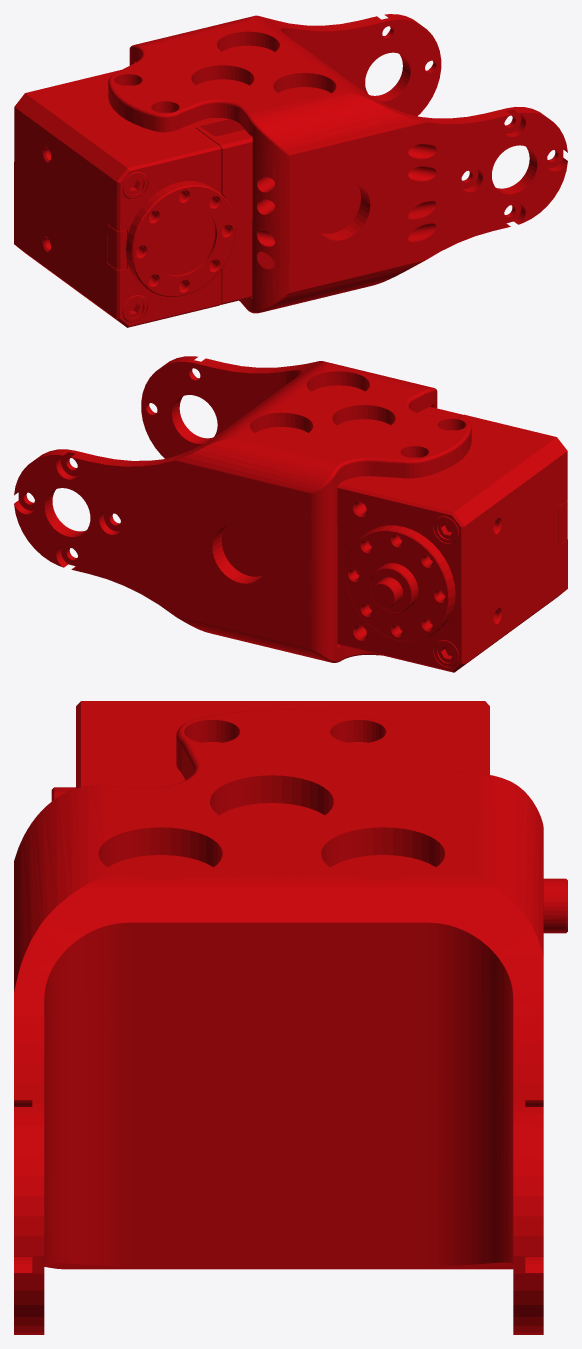
The picture shows the model from 3 angles, top to bottom: view 1: azimuth 30°, elevation 25°; view 2: azimuth 150°, elevation 25°; view 3: azimuth 270°, elevation 25°; orthographic projection. The views are drawn at different scales.
Visible parts, largest first — view 1: link2; view 2: link2; view 3: link2.
Boxes of the visible parts, box(x1,y1,x2,y2) form: link2: box(14, 14, 567, 327); link2: box(14, 356, 567, 672); link2: box(14, 701, 567, 1334).
Size of the model in its own units: 81.17 by 35.07 by 45.5.
